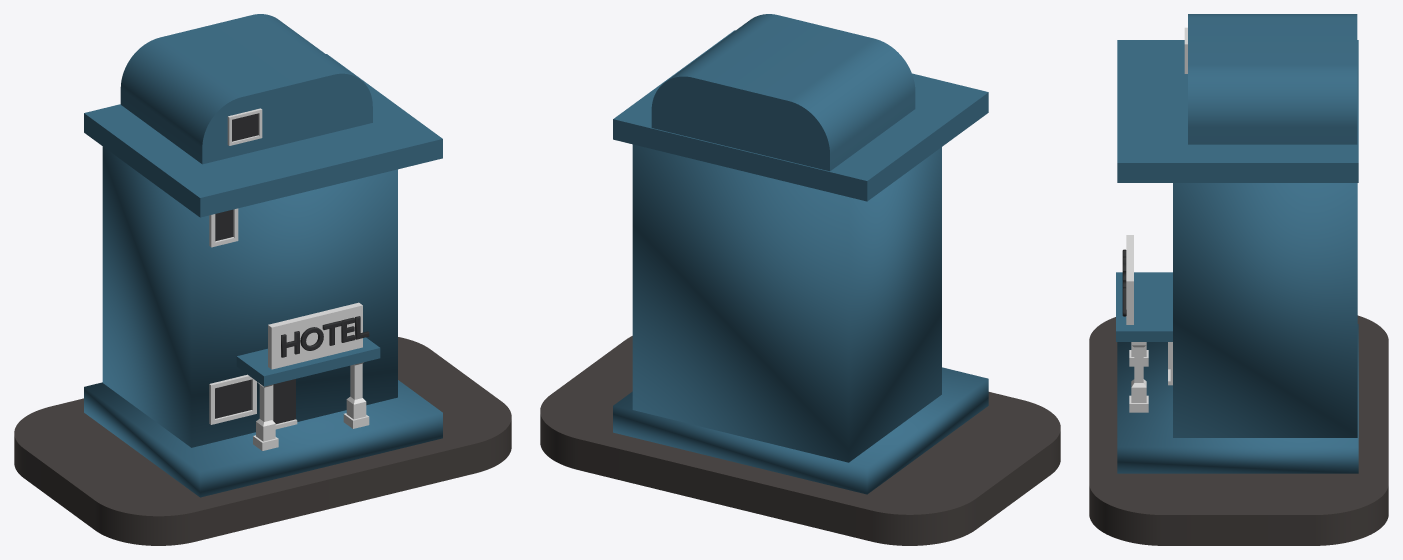
The model's file is hotel.glb.
3 renders of one model, left to right at view 1: azimuth 30°, elevation 25°; view 2: azimuth 150°, elevation 25°; view 3: azimuth 270°, elevation 25°, orthographic. The views are drawn at different scales.
Parts seen in each view (by area): view 1: Cube.001, Cube.004, Cube.003, Cube.022, Cube.002, Cube, Cube.017, Cube.018, Cube.021, Text, Cube.005, Cube.019 (+1 smaller); view 2: Cube.001, Cube.004, Cube.003, Cube.022, Cube.002; view 3: Cube.001, Cube.004, Cube.003, Cube.022, Cube.002, Cube.017, Cube.018, Cube.
Part boxes in pixels (x1,y1,x2,y2): Cube.001: (102, 146, 397, 447); Cube.004: (14, 337, 511, 545); Cube.003: (120, 14, 372, 164); Cube.022: (84, 54, 442, 217); Cube.002: (84, 380, 442, 497); Cube: (268, 302, 362, 369); Cube.017: (236, 337, 380, 386); Cube.018: (253, 362, 369, 450); Cube.021: (209, 374, 256, 424); Text: (281, 316, 369, 357); Cube.005: (227, 108, 262, 145); Cube.019: (272, 379, 297, 429); Cube.001: (632, 144, 941, 462); Cube.004: (540, 336, 1060, 545); Cube.003: (651, 14, 915, 171); Cube.022: (613, 30, 988, 201); Cube.002: (613, 367, 988, 494); Cube.001: (1173, 183, 1357, 437); Cube.004: (1089, 315, 1388, 545); Cube.003: (1188, 14, 1357, 144); Cube.022: (1117, 40, 1358, 182); Cube.002: (1117, 324, 1358, 473); Cube.017: (1116, 272, 1172, 341); Cube.018: (1129, 342, 1148, 412); Cube: (1126, 235, 1133, 324).
Size of the model in its own units: 3.69 by 3.35 by 2.27.
